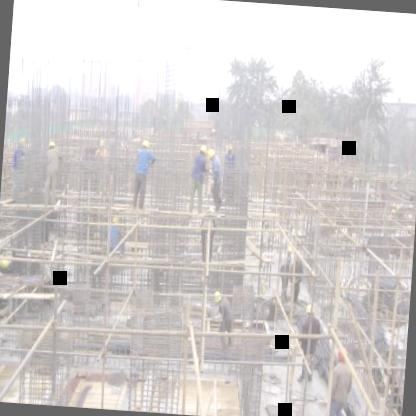helmet: (332, 342, 351, 366), (210, 288, 227, 306), (205, 146, 221, 164), (302, 301, 318, 318), (194, 142, 209, 160), (139, 138, 153, 154), (45, 139, 57, 156)
